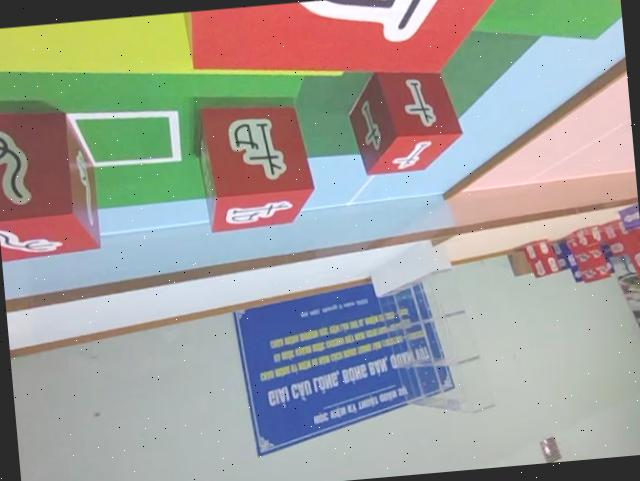R2 Real: (193, 98, 317, 232), (0, 109, 100, 263), (344, 62, 465, 173)
